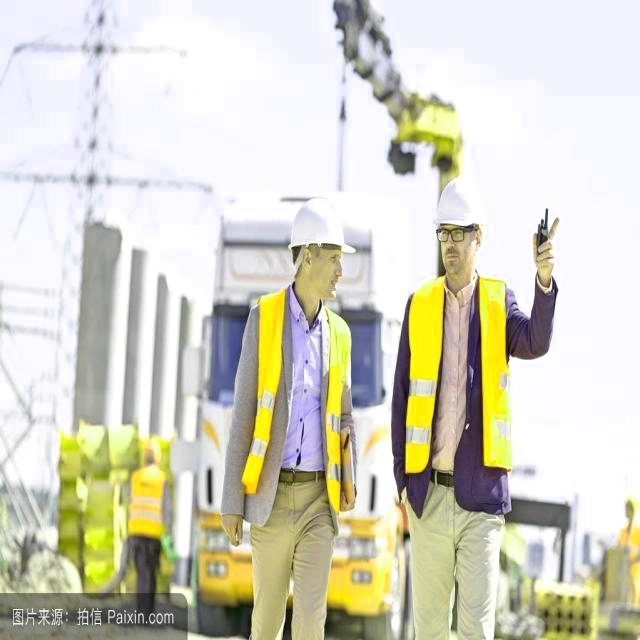Con_Casco: (286, 198, 358, 291), (434, 174, 486, 269)
Con_Chaleco: (401, 277, 515, 480), (244, 298, 352, 510), (128, 463, 167, 545)
